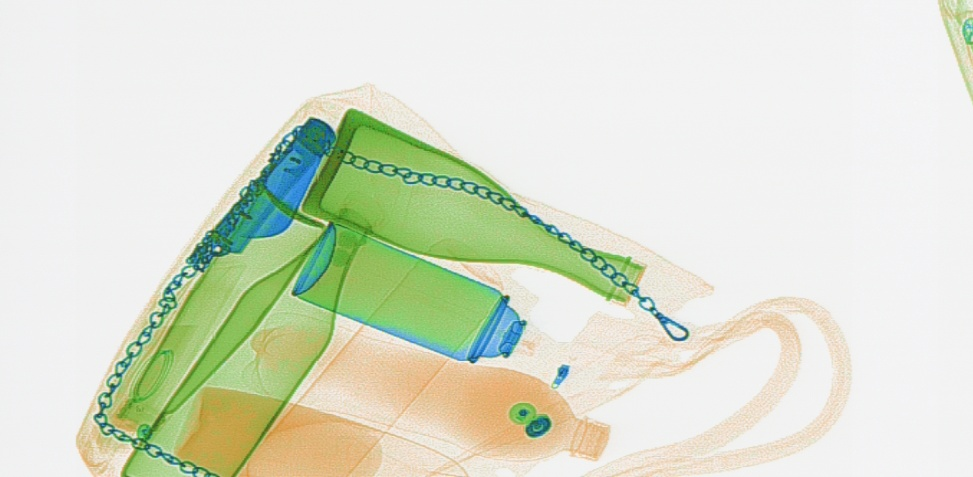knife: (216, 113, 339, 252)
pressure: (288, 219, 525, 363)
